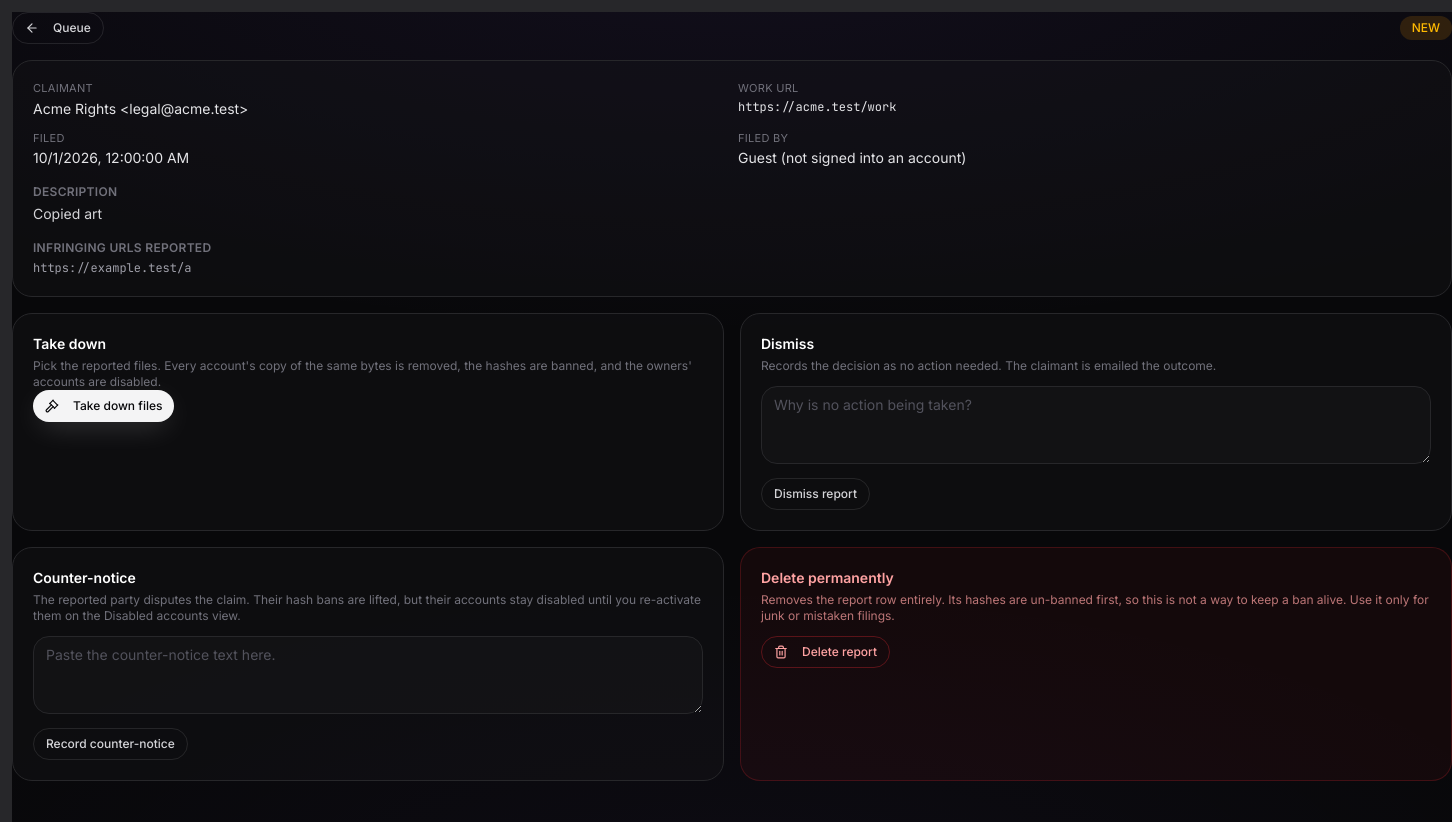
Scenario: ModerationTab report detail notices (B2) › recording a counter-notice shows the success notice
The width and height of the screenshot is (1452, 822).
Click the button "Record counter-notice": (110, 744) 33,728 -> 188,760
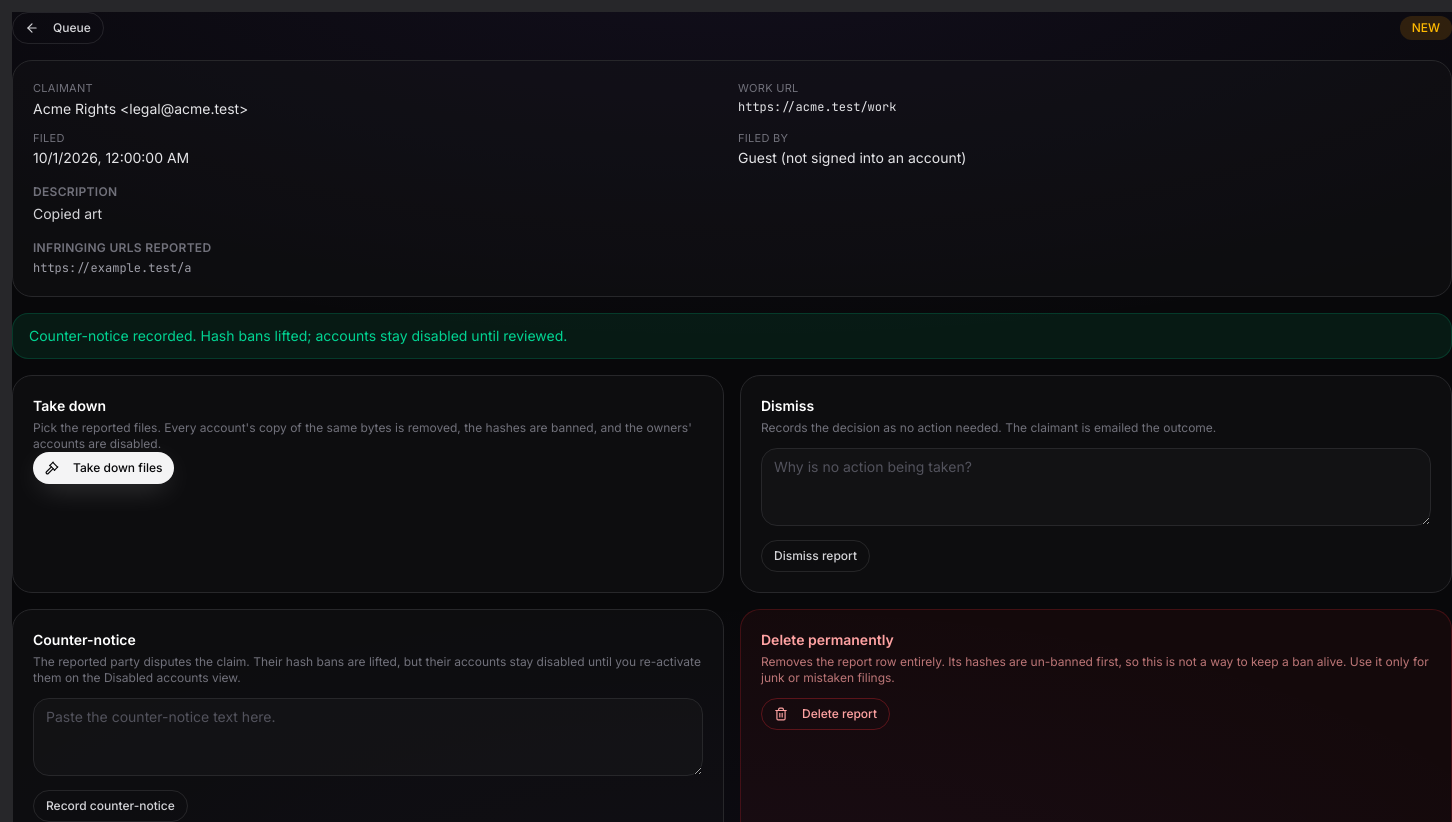
Now the text "Counter-notice recorded" is shown, box 29,327 -> 567,344
